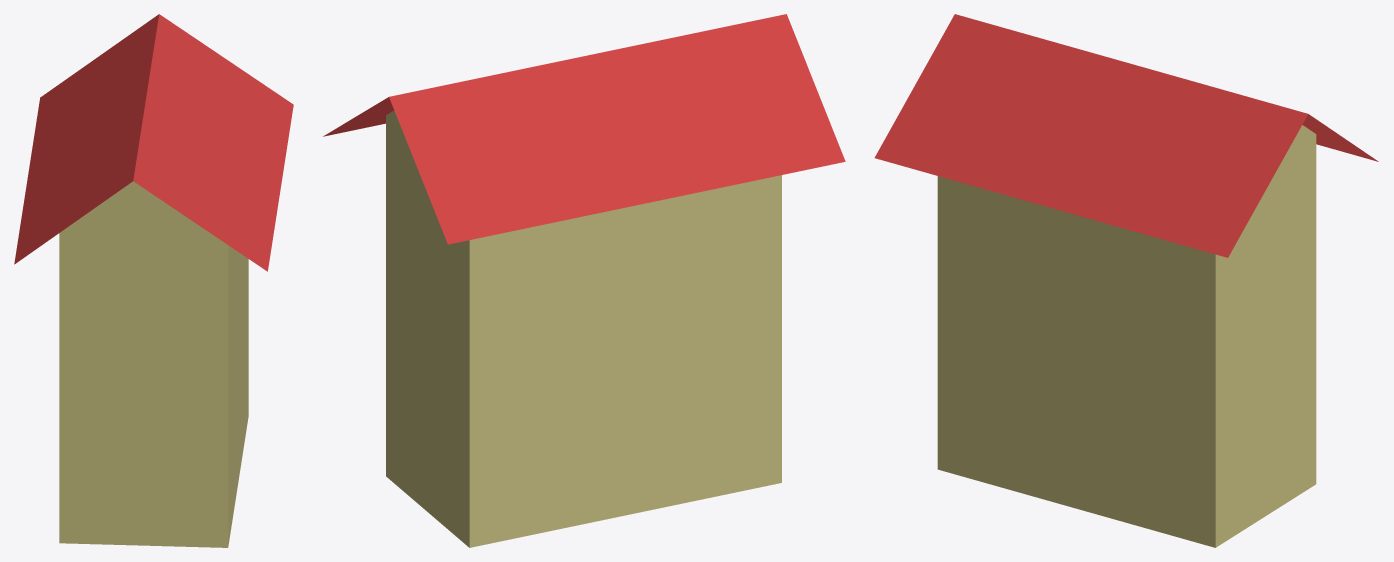
3 renders of one model, left to right at view 1: azimuth 30°, elevation 25°; view 2: azimuth 150°, elevation 25°; view 3: azimuth 270°, elevation 25°, orthographic. The views are drawn at different scales.
Visible parts, largest first — view 1: group_5, group_3, group_4; view 2: group_5, group_3, group_4; view 3: group_5, group_3, group_4.
Boxes of the visible parts, x1=… form: group_5: x1=59, y1=181, x2=248, y2=547; group_3: x1=14, y1=14, x2=293, y2=271; group_4: x1=14, y1=14, x2=293, y2=263; group_5: x1=386, y1=110, x2=781, y2=547; group_3: x1=323, y1=14, x2=845, y2=244; group_4: x1=328, y1=88, x2=844, y2=244; group_5: x1=937, y1=125, x2=1316, y2=547; group_3: x1=874, y1=15, x2=1378, y2=257; group_4: x1=953, y1=14, x2=1307, y2=257.
Size of the model in its own units: 7.62 by 8.31 by 7.44.
